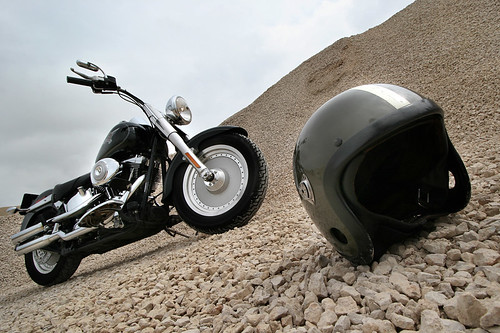helmet: (287, 68, 458, 265)
